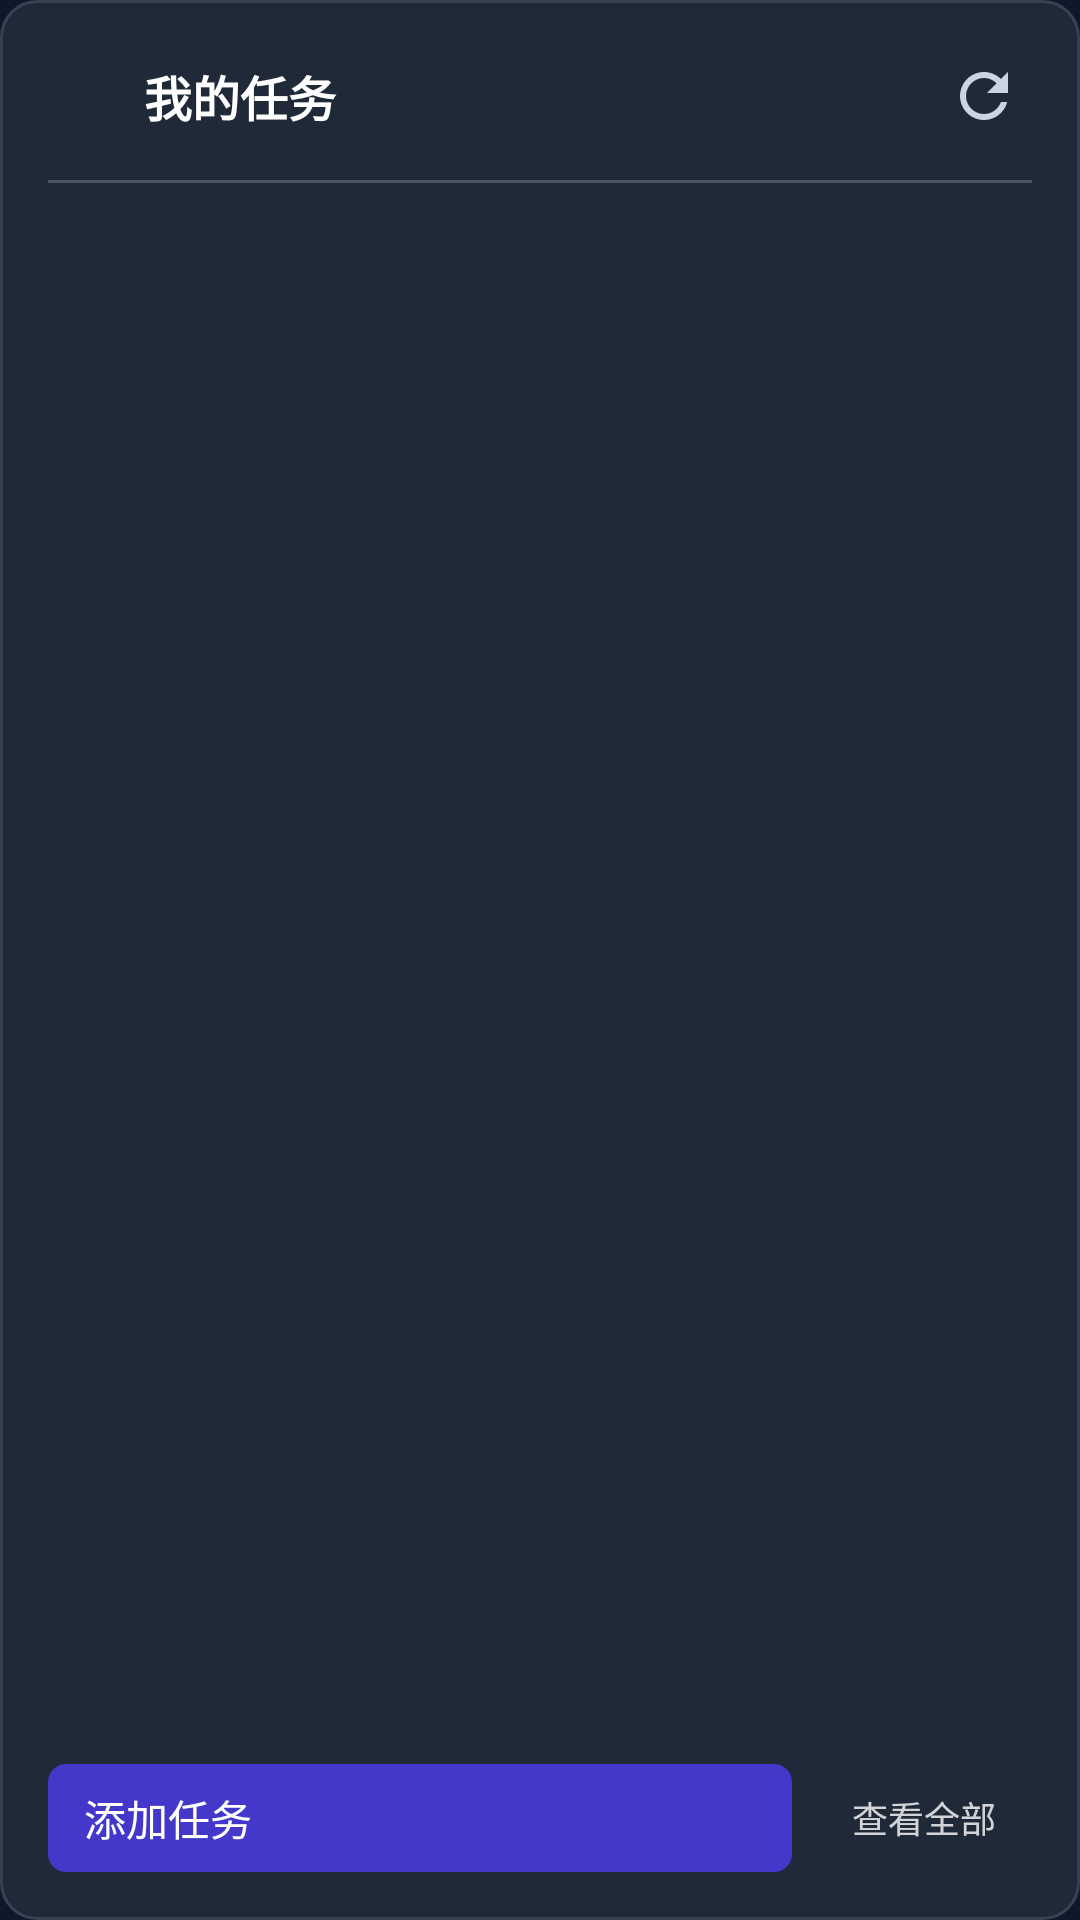

Icons on this 1080x1920 Android screen, each with the point to tap as (x,y):
刷新: (984,96)
